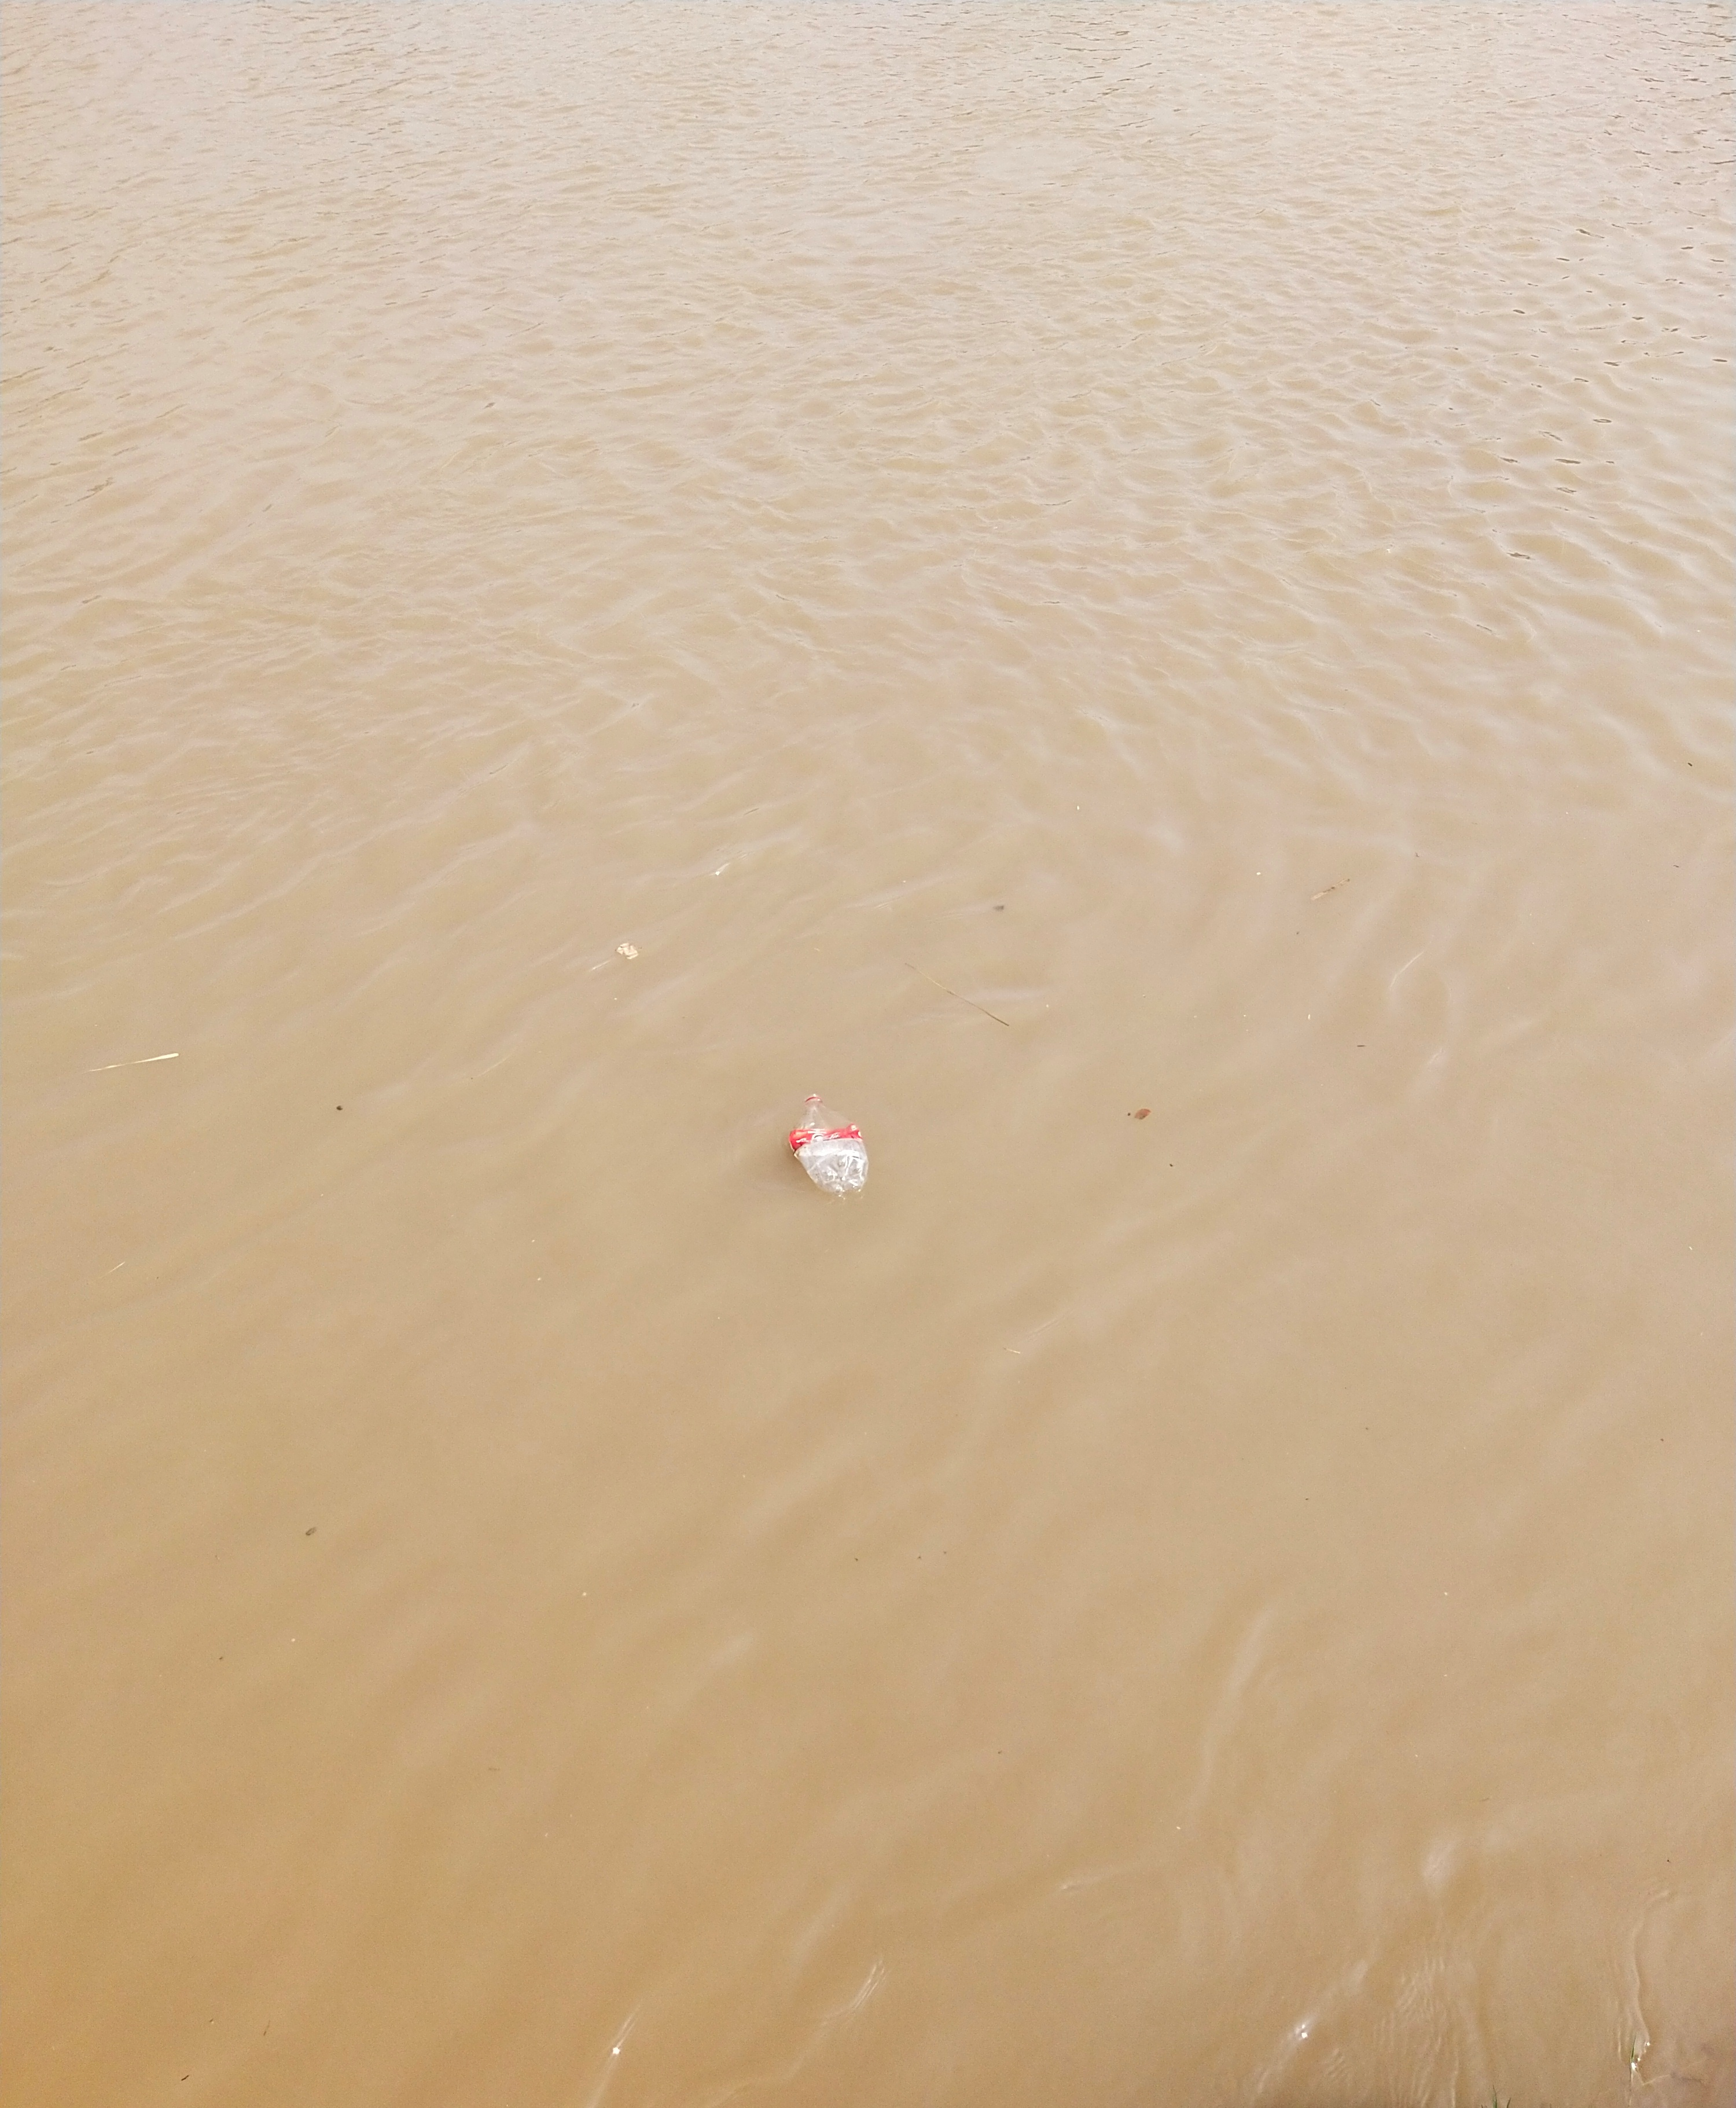Plastic Bottle: (789, 1094, 868, 1194)
